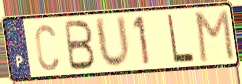1: (131, 14, 152, 68)
B: (63, 19, 97, 72)
C: (33, 22, 61, 73)
L: (166, 12, 196, 64)
M: (194, 8, 236, 65)
U: (92, 13, 133, 71)
